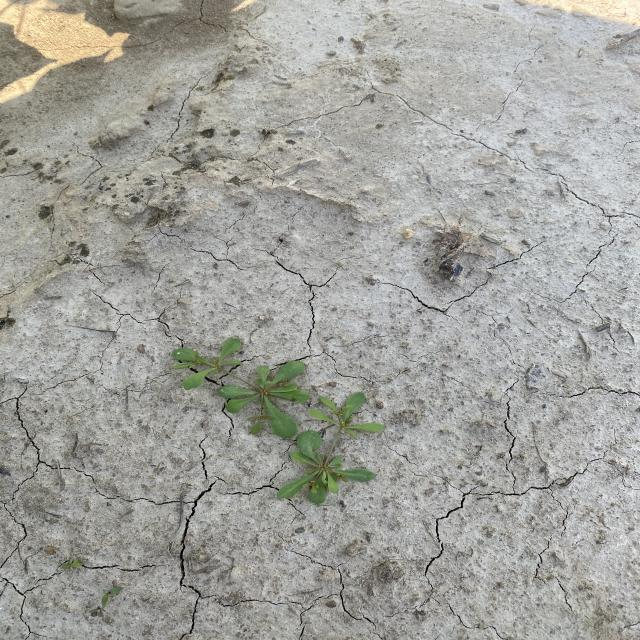Carpetweed: (167, 335, 389, 505)
